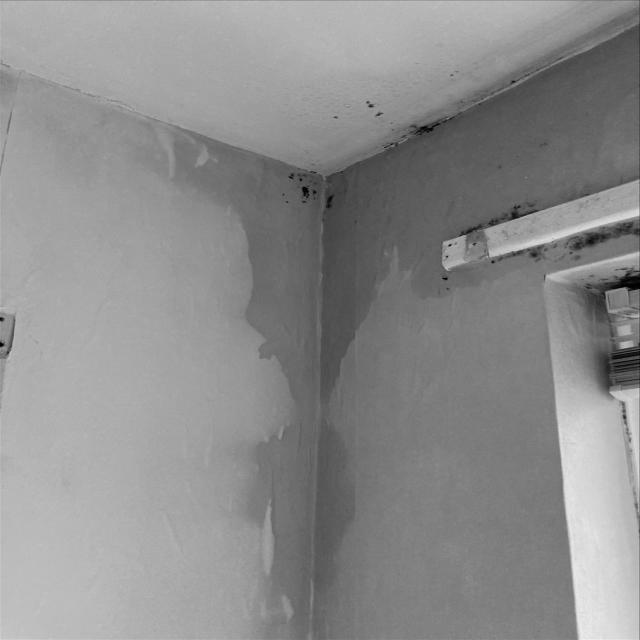stain marks: (443, 0, 640, 118), (430, 211, 640, 297), (350, 100, 458, 168), (266, 154, 348, 226), (449, 196, 543, 244), (382, 111, 456, 152), (584, 266, 640, 296), (507, 198, 535, 224), (362, 100, 392, 118), (326, 110, 344, 126)
